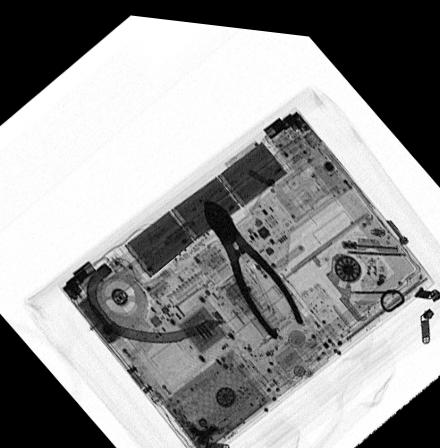Pliers: (201, 191, 306, 337)
